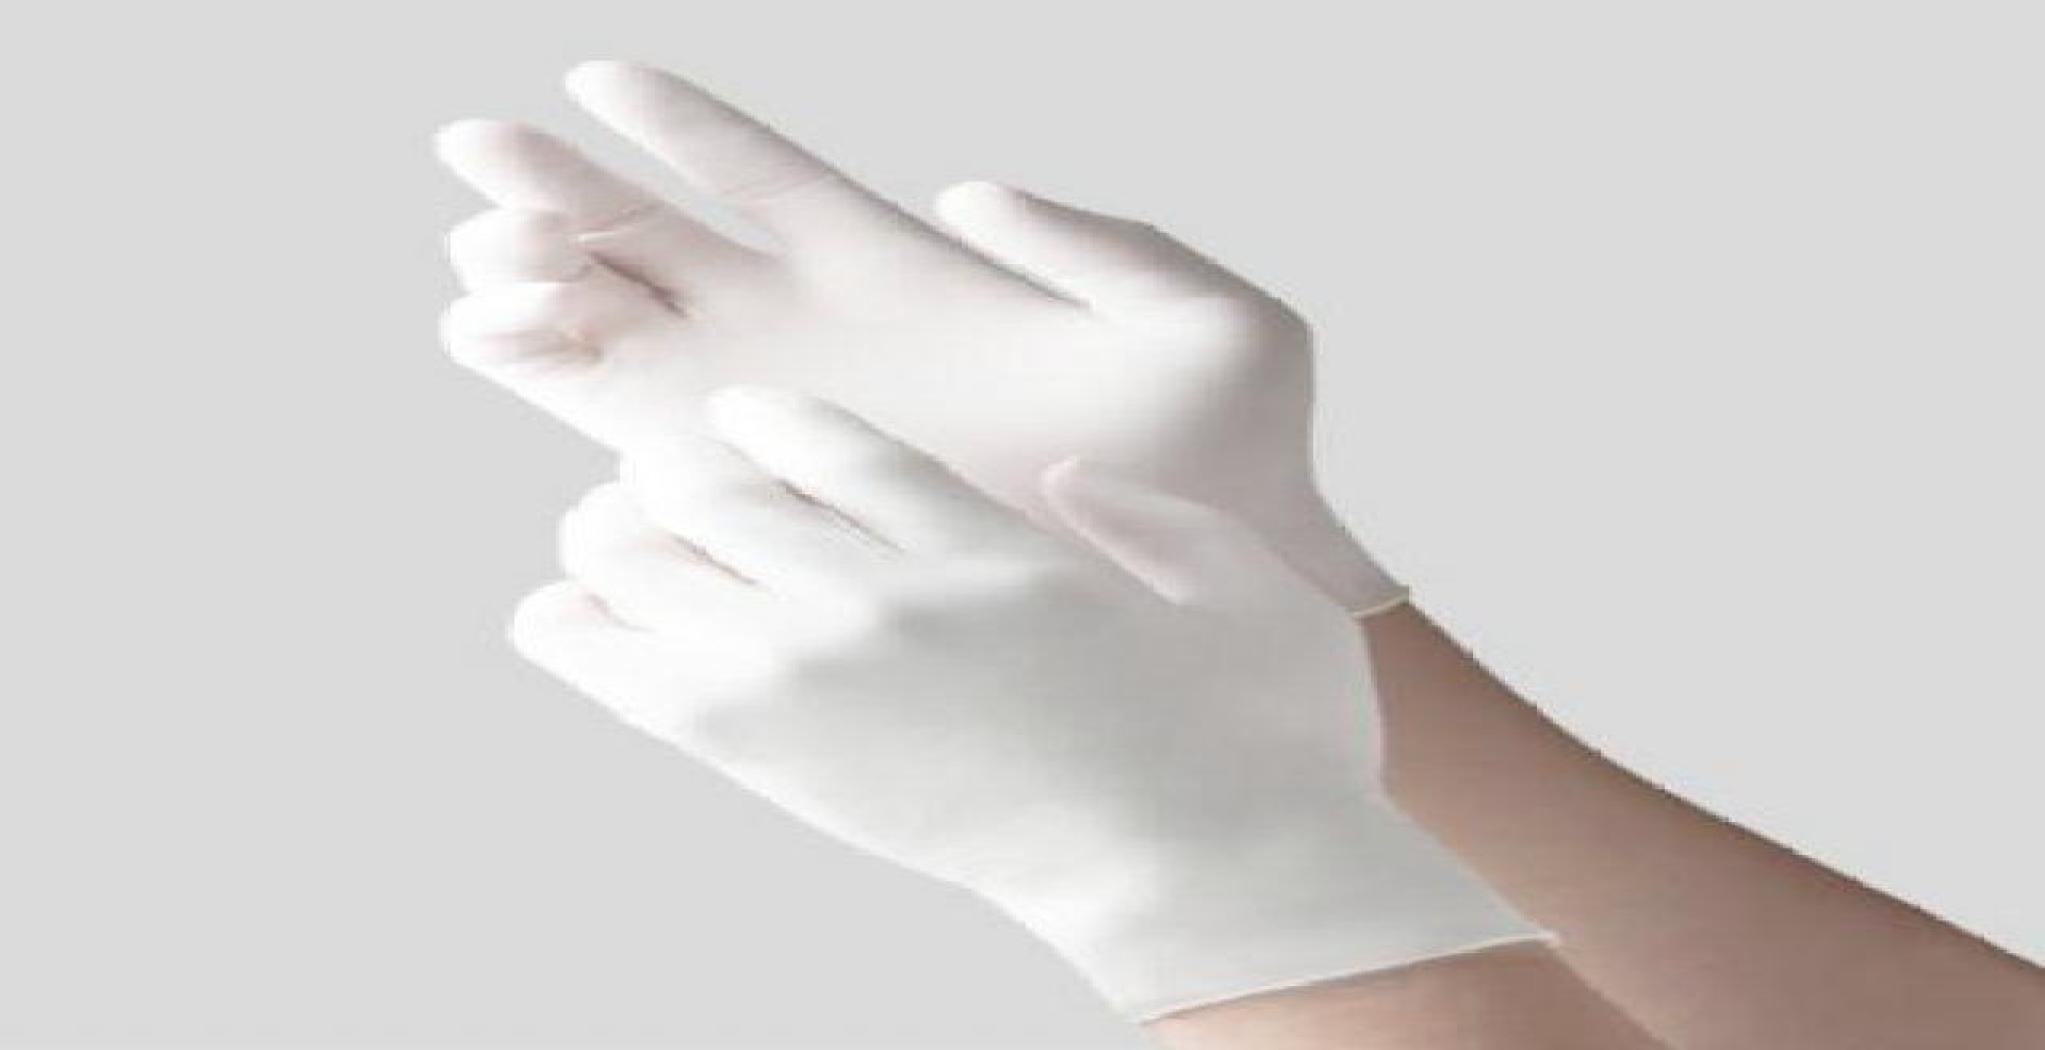gloved: (423, 379, 1518, 1026), (437, 49, 1429, 558)
